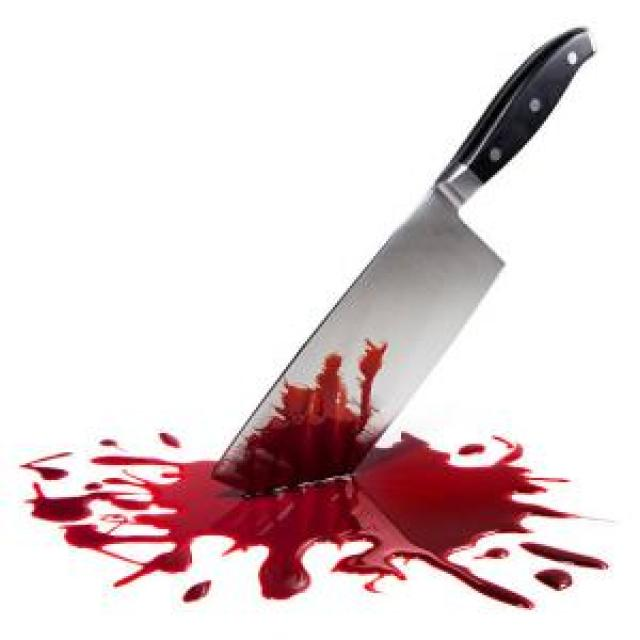knife: (207, 17, 607, 492)
